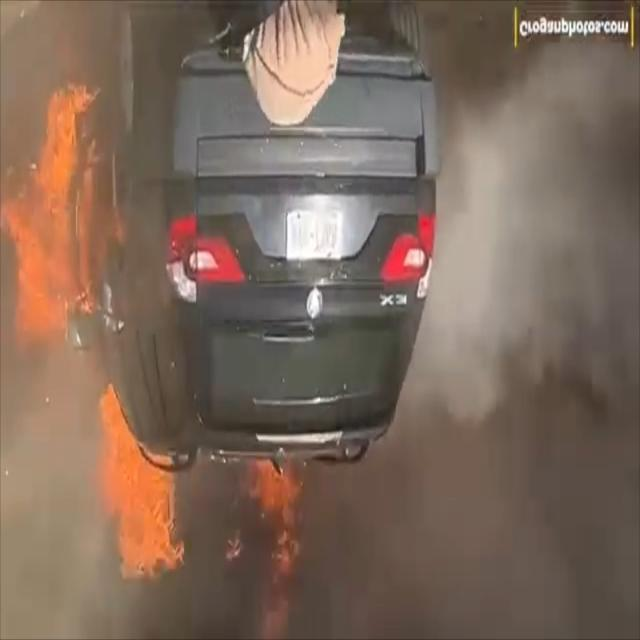fire: (89, 392, 304, 630), (7, 75, 109, 348)
